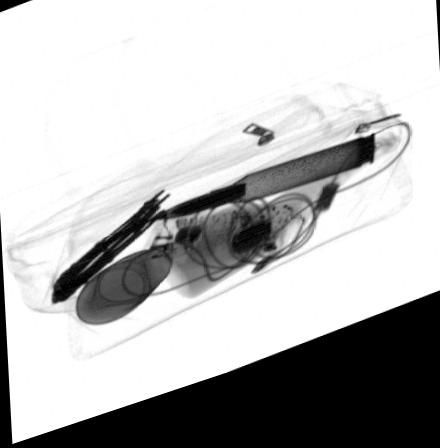Bullet: (144, 157, 376, 231)
HandCuffs: (49, 198, 171, 308)
